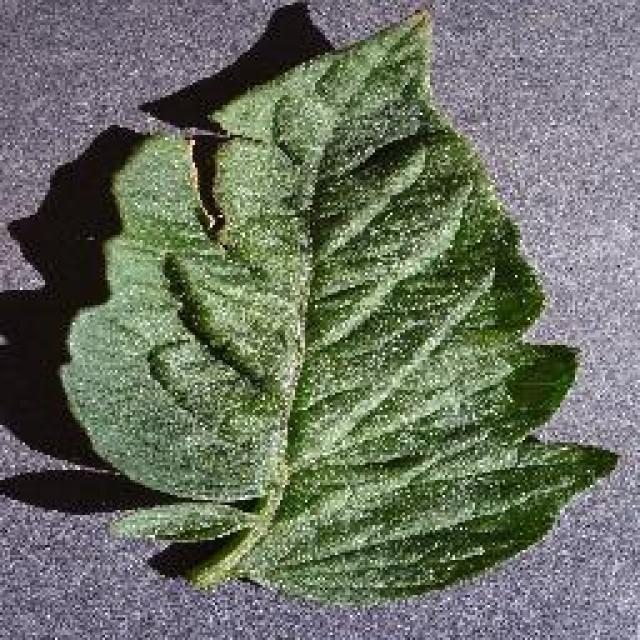Tomato healthy leaf: (65, 14, 615, 606)
